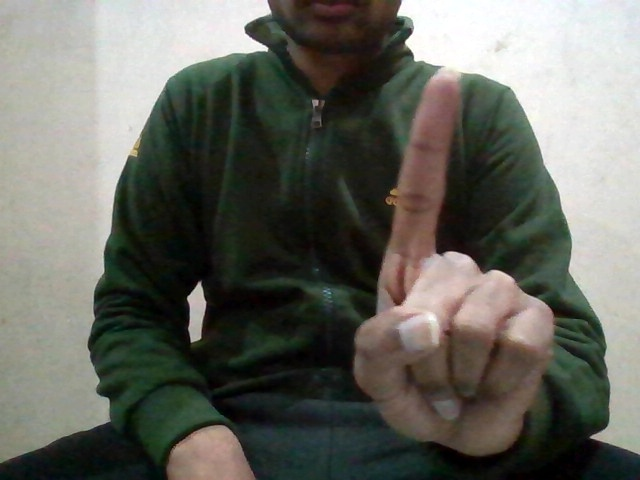D: (347, 62, 559, 456)
